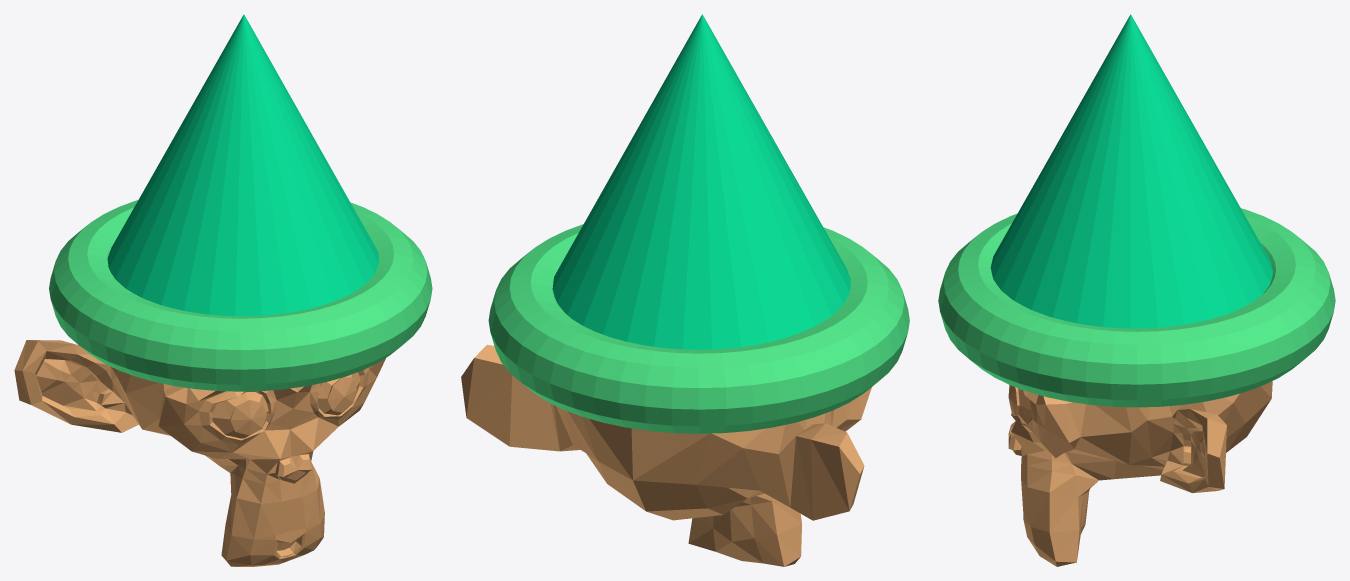
Rendered from Monkey.dae.
3 renders of one model, left to right at view 1: azimuth 30°, elevation 25°; view 2: azimuth 150°, elevation 25°; view 3: azimuth 270°, elevation 25°, orthographic. The views are drawn at different scales.
Parts seen in each view (by area): view 1: Cone, Torus, Suzanne; view 2: Cone, Torus, Suzanne; view 3: Cone, Torus, Suzanne.
Part boxes in pixels (x1,y1,x2,y2): Cone: [107, 14, 378, 316]; Torus: [49, 200, 432, 391]; Suzanne: [14, 340, 385, 566]; Cone: [552, 14, 850, 349]; Torus: [488, 224, 909, 433]; Suzanne: [461, 344, 871, 566]; Cone: [990, 14, 1272, 328]; Torus: [938, 208, 1335, 407]; Suzanne: [1008, 381, 1272, 566].
Size of the model in its own units: 2.73 by 2.5 by 3.74.
